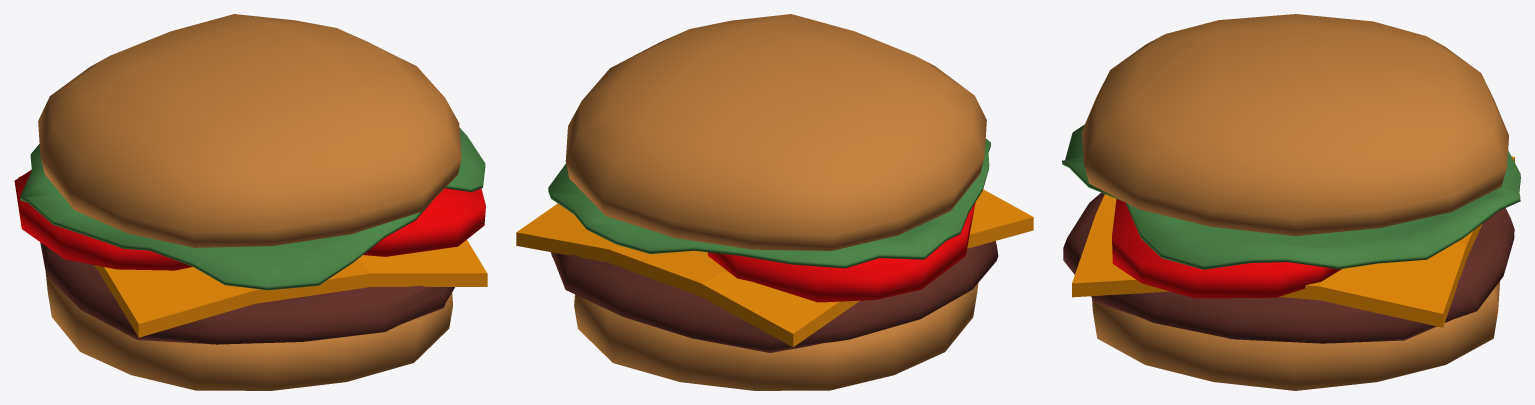
The model's file is newBurger.fbx.
The picture shows the model from 3 angles, left to right: view 1: azimuth 30°, elevation 25°; view 2: azimuth 150°, elevation 25°; view 3: azimuth 270°, elevation 25°; orthographic projection. The views are drawn at different scales.
Parts seen in each view (by area): view 1: Cube.082; view 2: Cube.082; view 3: Cube.082.
Boxes of the visible parts, <box> form: Cube.082: <box>14,14,487,390</box>; Cube.082: <box>516,14,1033,390</box>; Cube.082: <box>1062,14,1520,390</box>.
Bounding box in the file's own units: 48.48 × 30.14 × 47.5.
